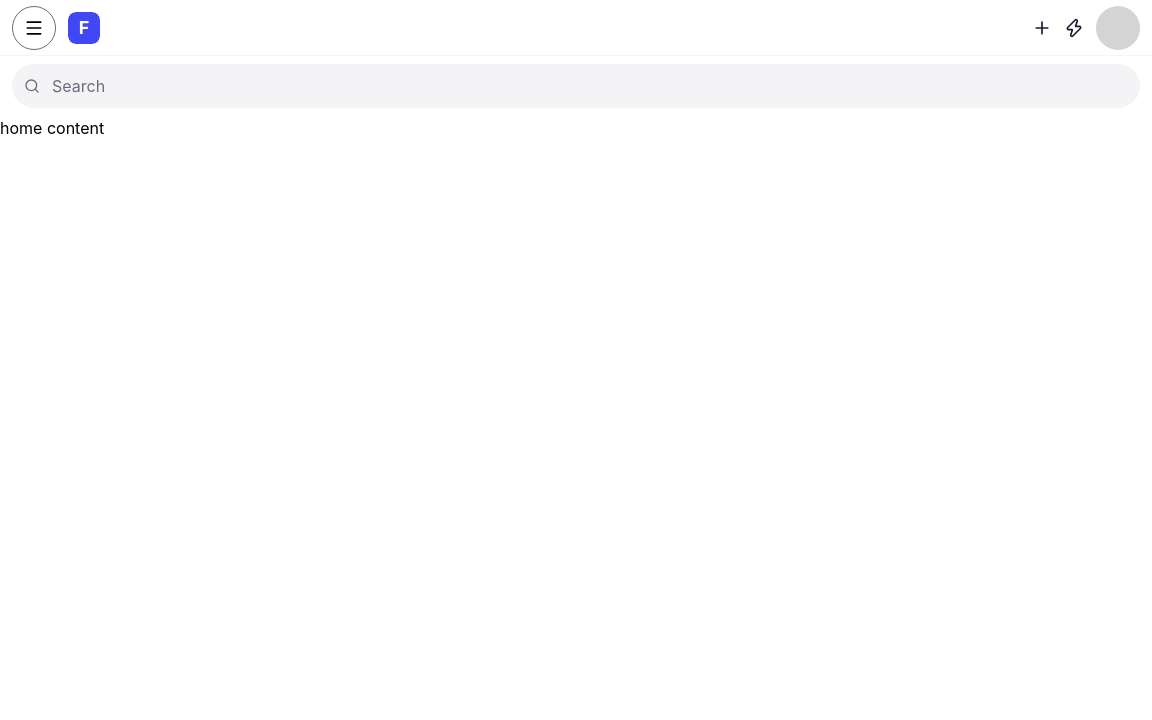
Test: AppShell › never has the drawer and the account sheet open at the same time
Click the button named "Open menu" at (34, 28), box [12,6,56,50]
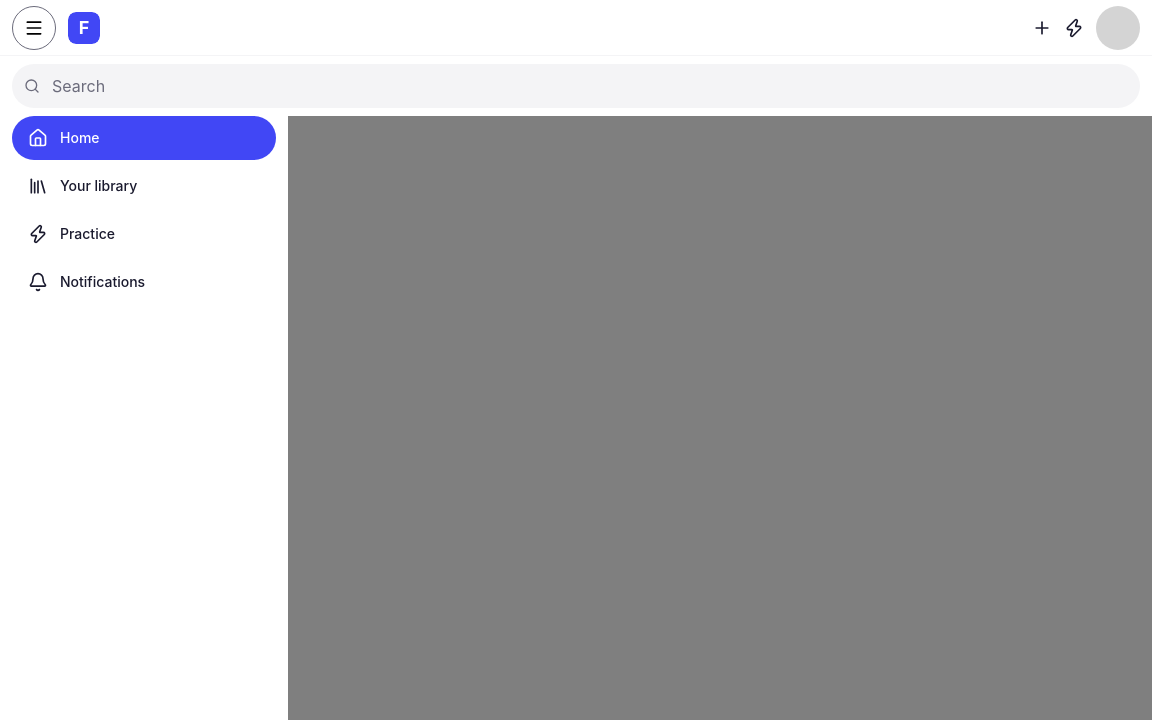
Result: the number of dialogs is 1 at [0,0,288,719]
